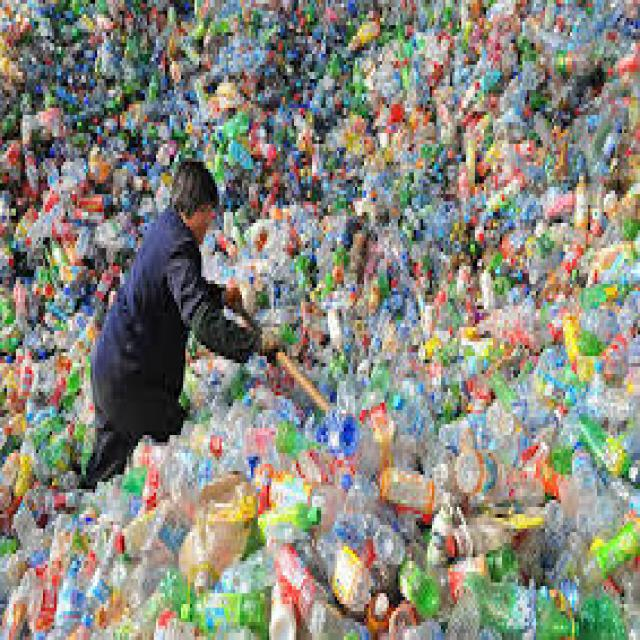plastic: (252, 23, 640, 638)
plastic_bottle: (164, 572, 293, 640), (372, 452, 467, 530)
